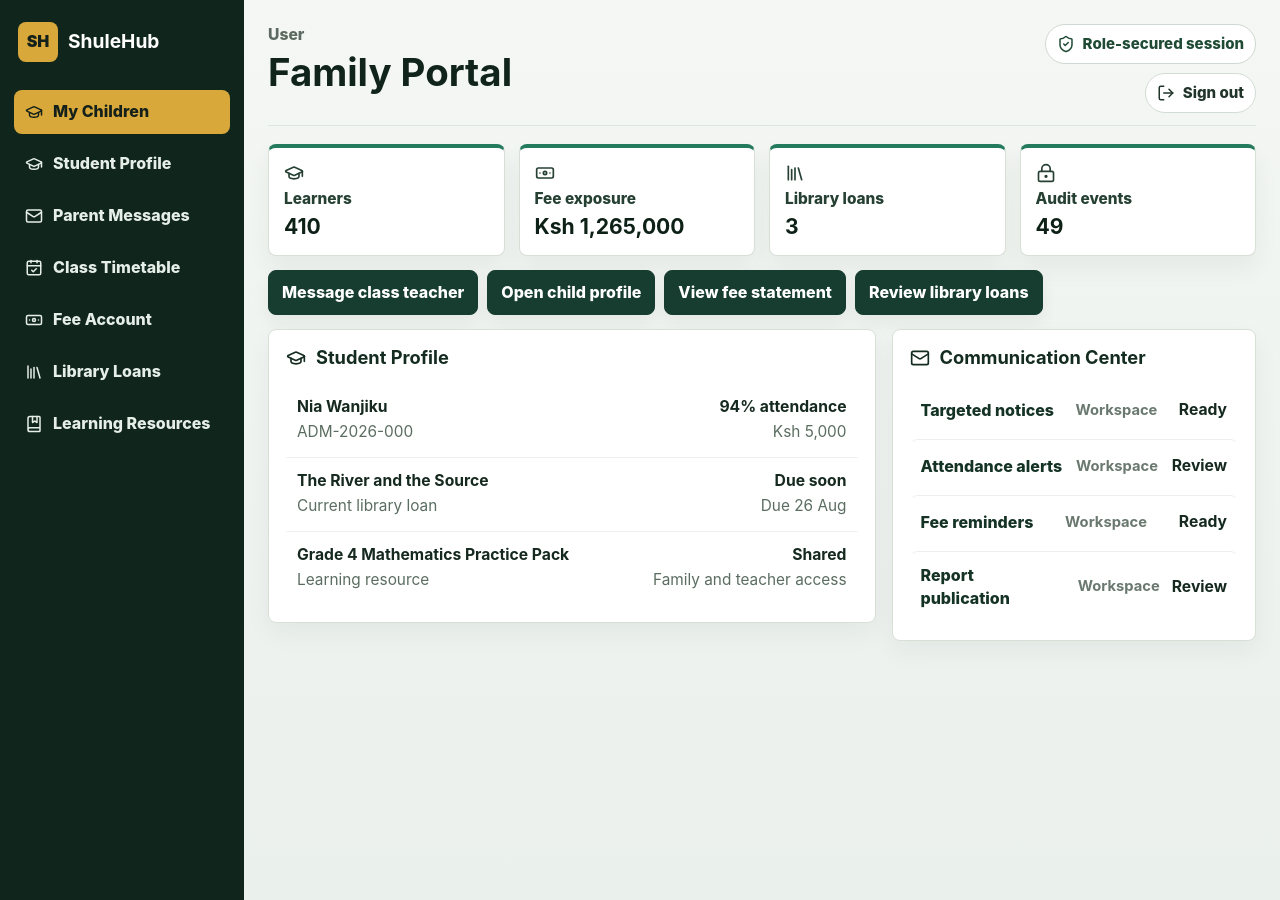
Test: App › dashboard actions open tabbed task pages that can be completed
The width and height of the screenshot is (1280, 900).
Click the button "View fee statement": click(755, 292) [664,270,846,315]
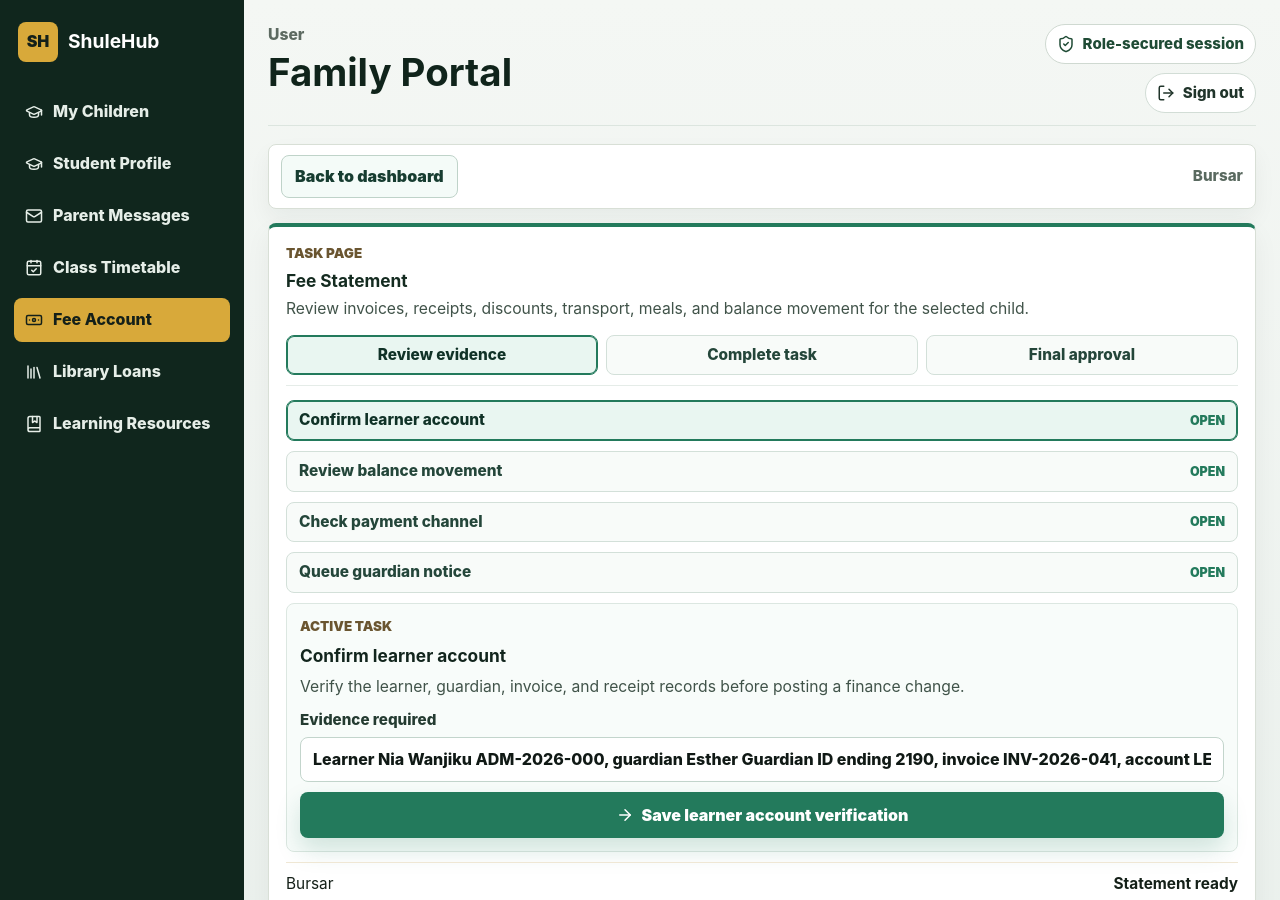
Now the tab "Review evidence" is shown, box [286,335,598,375]
Now the tab "Complete task" is shown
Now the tab "Final approval" is shown, box [926,335,1238,375]
Click the tab "Complete task": click(762, 355) [606,335,918,375]
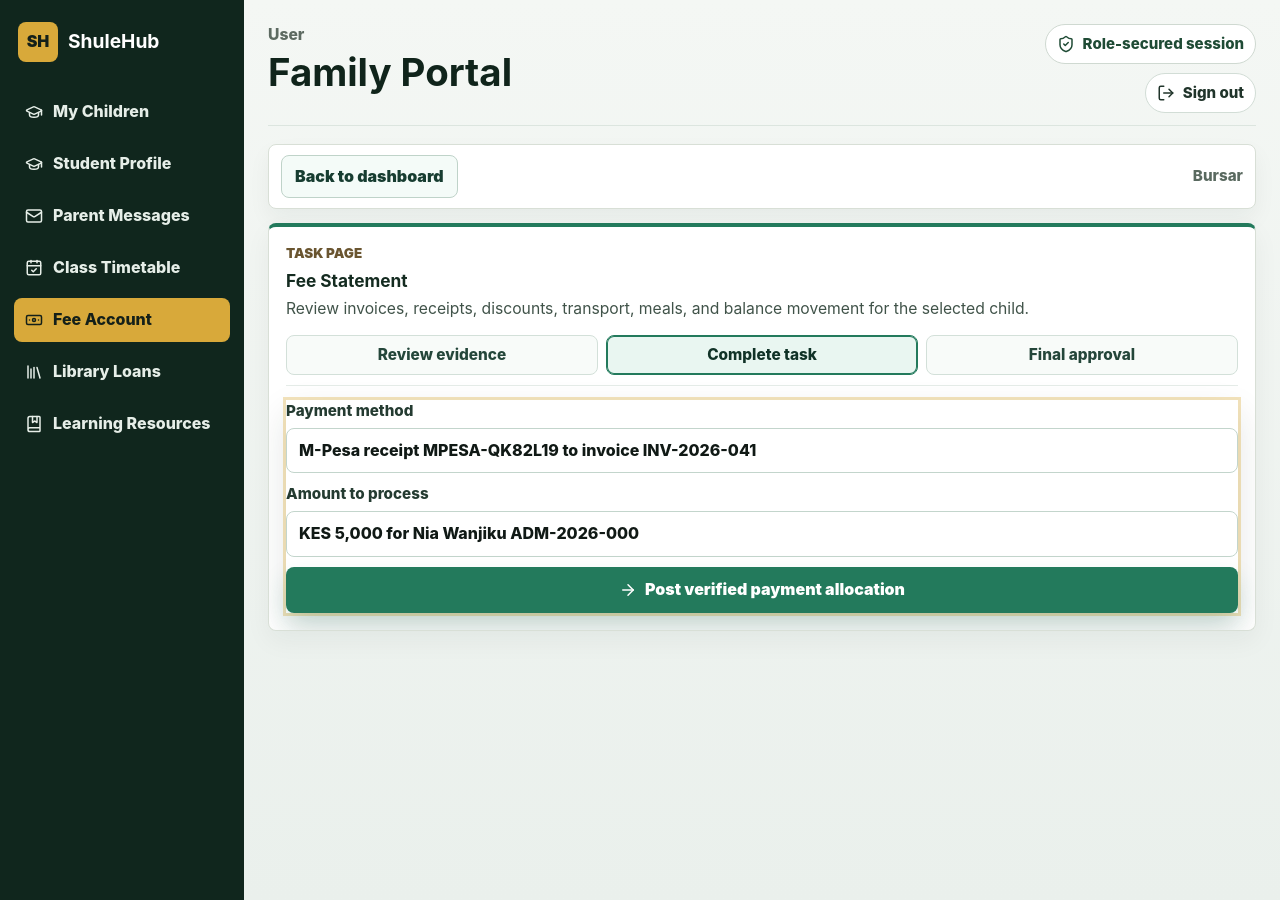
Now the text "Payment method" is shown, box [286,401,414,420]
Now the text "Amount to process" is shown, box [286,484,429,503]
Click the button "Post verified payment allocation": click(762, 590) [286,566,1238,612]
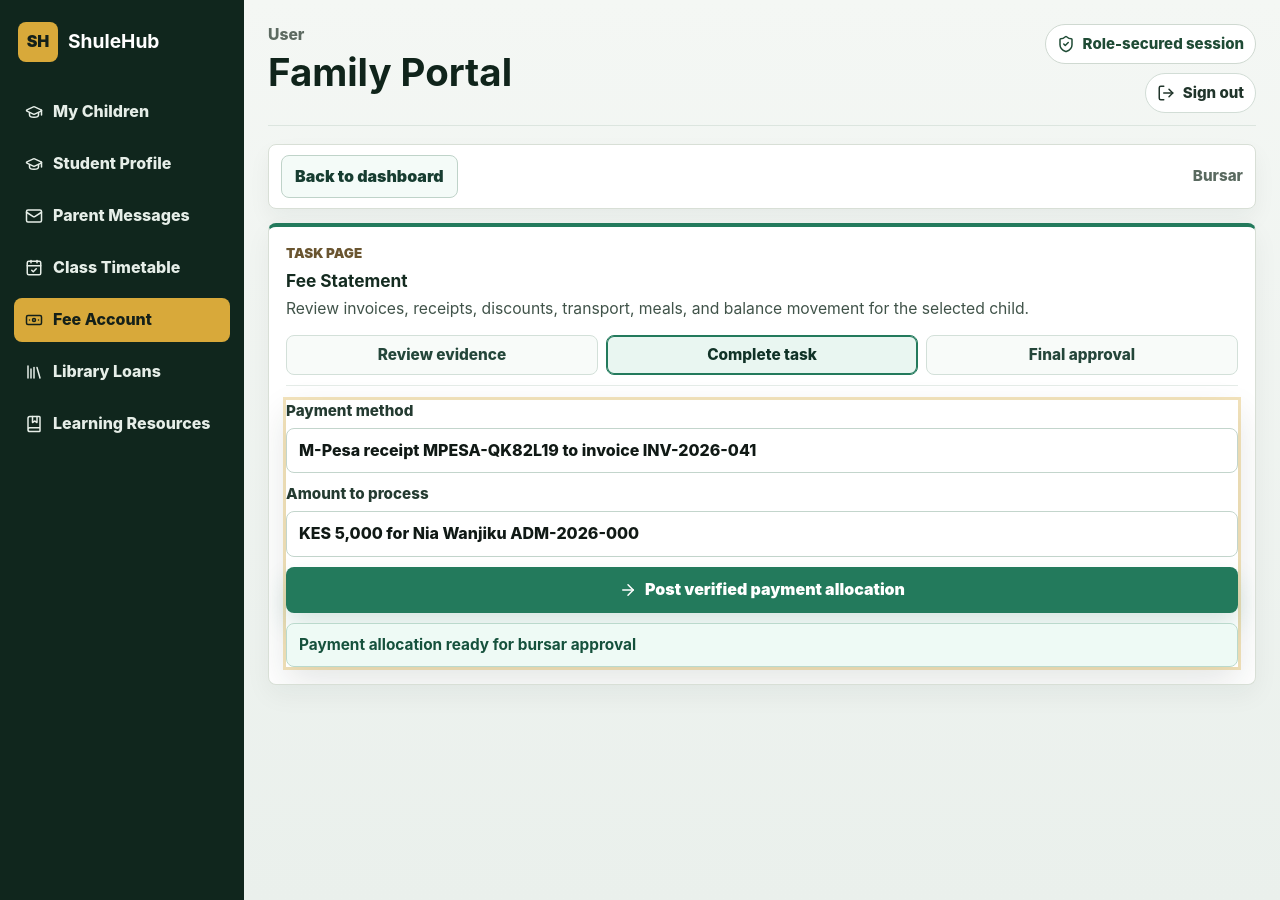
Now the text "Payment allocation ready for bursar approval" is shown, box [286,622,1238,667]
